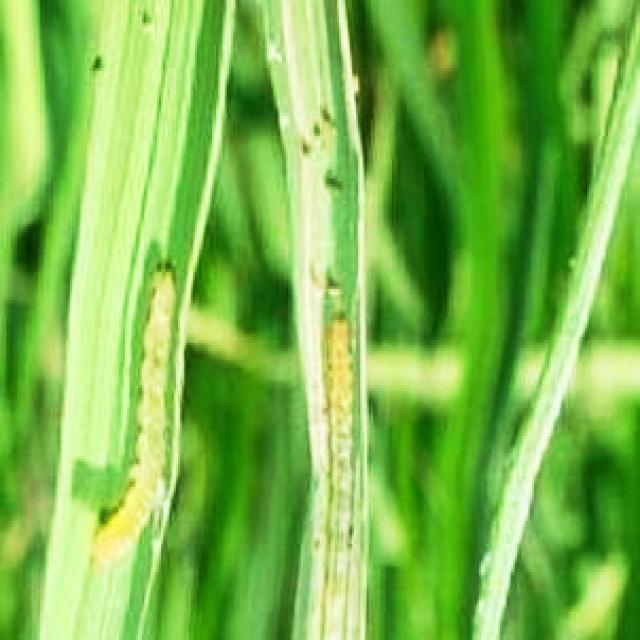leaf-folder: (292, 271, 401, 607), (92, 245, 191, 540)
